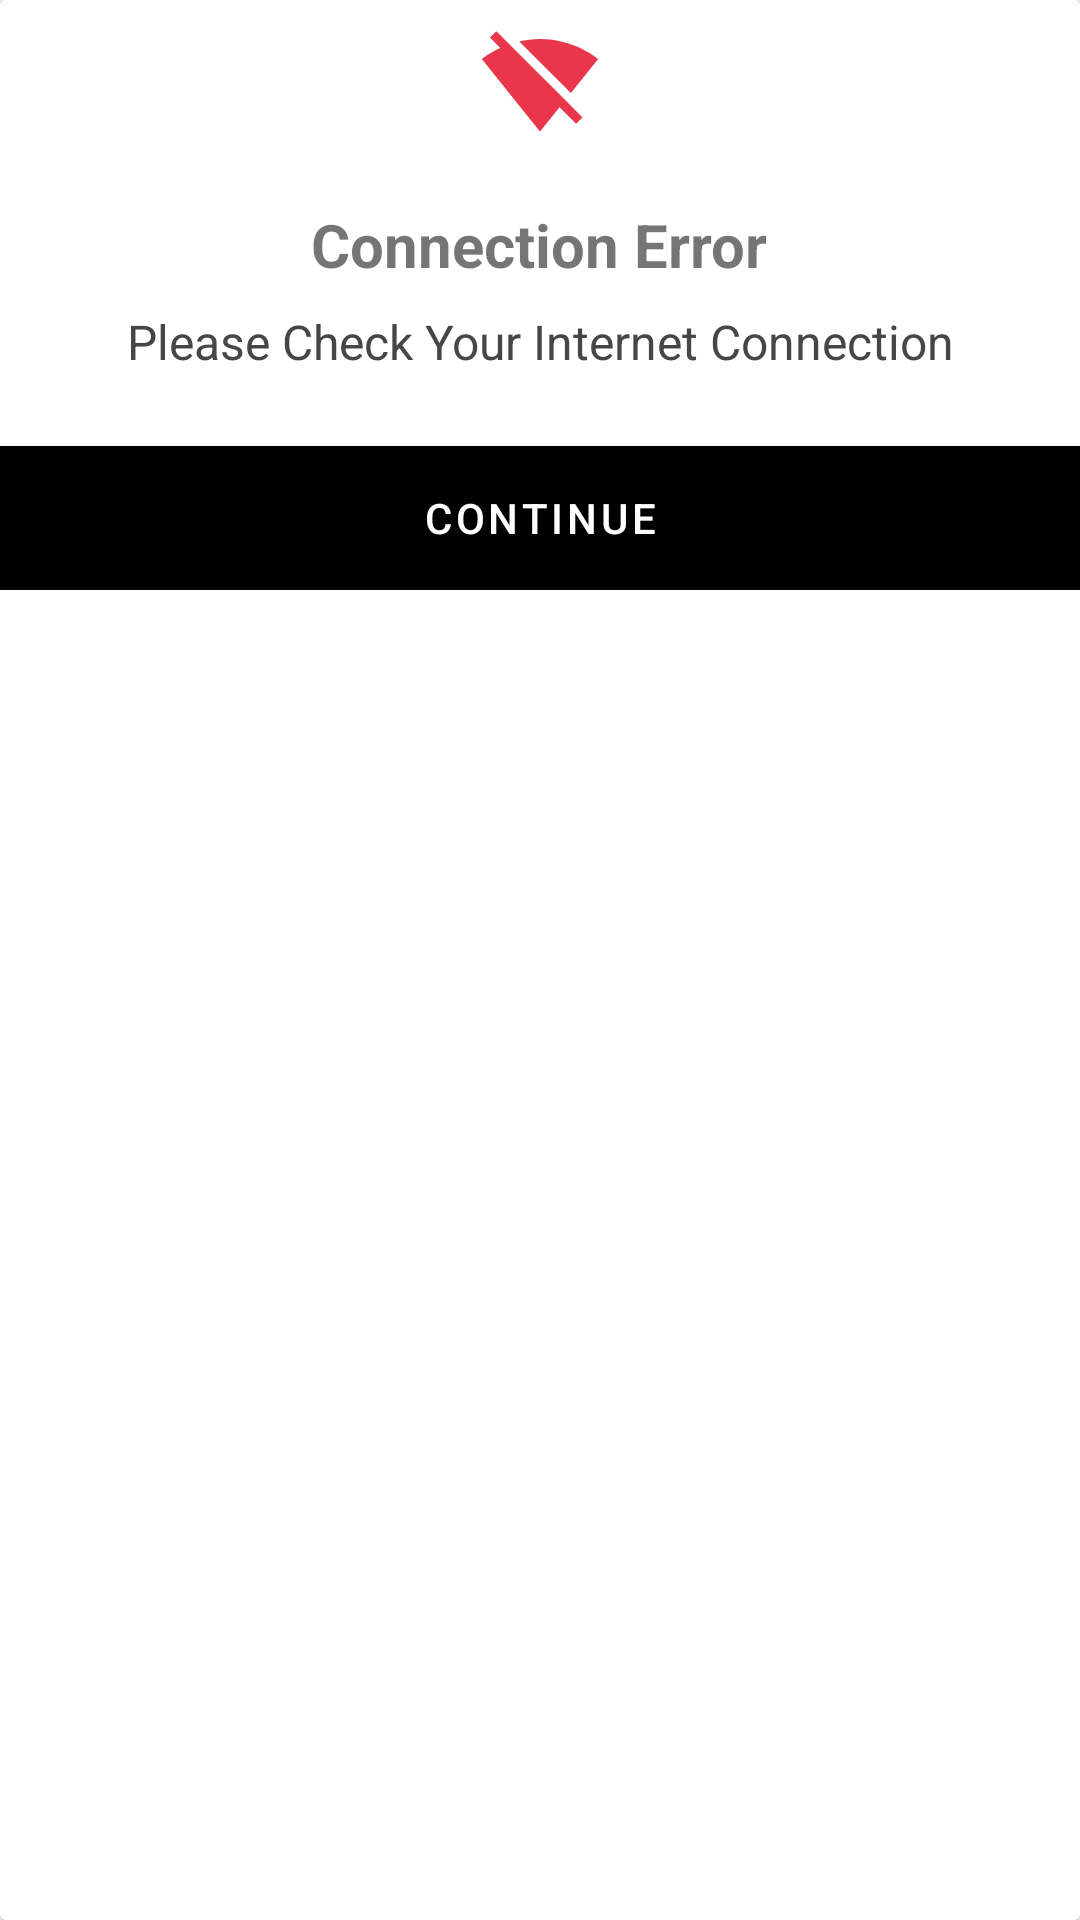

Where icons sit on this 1080 x 1920 app screen, as detection(x1, y1, x2, y2):
signal wifi off: detection(482, 31, 598, 132)
